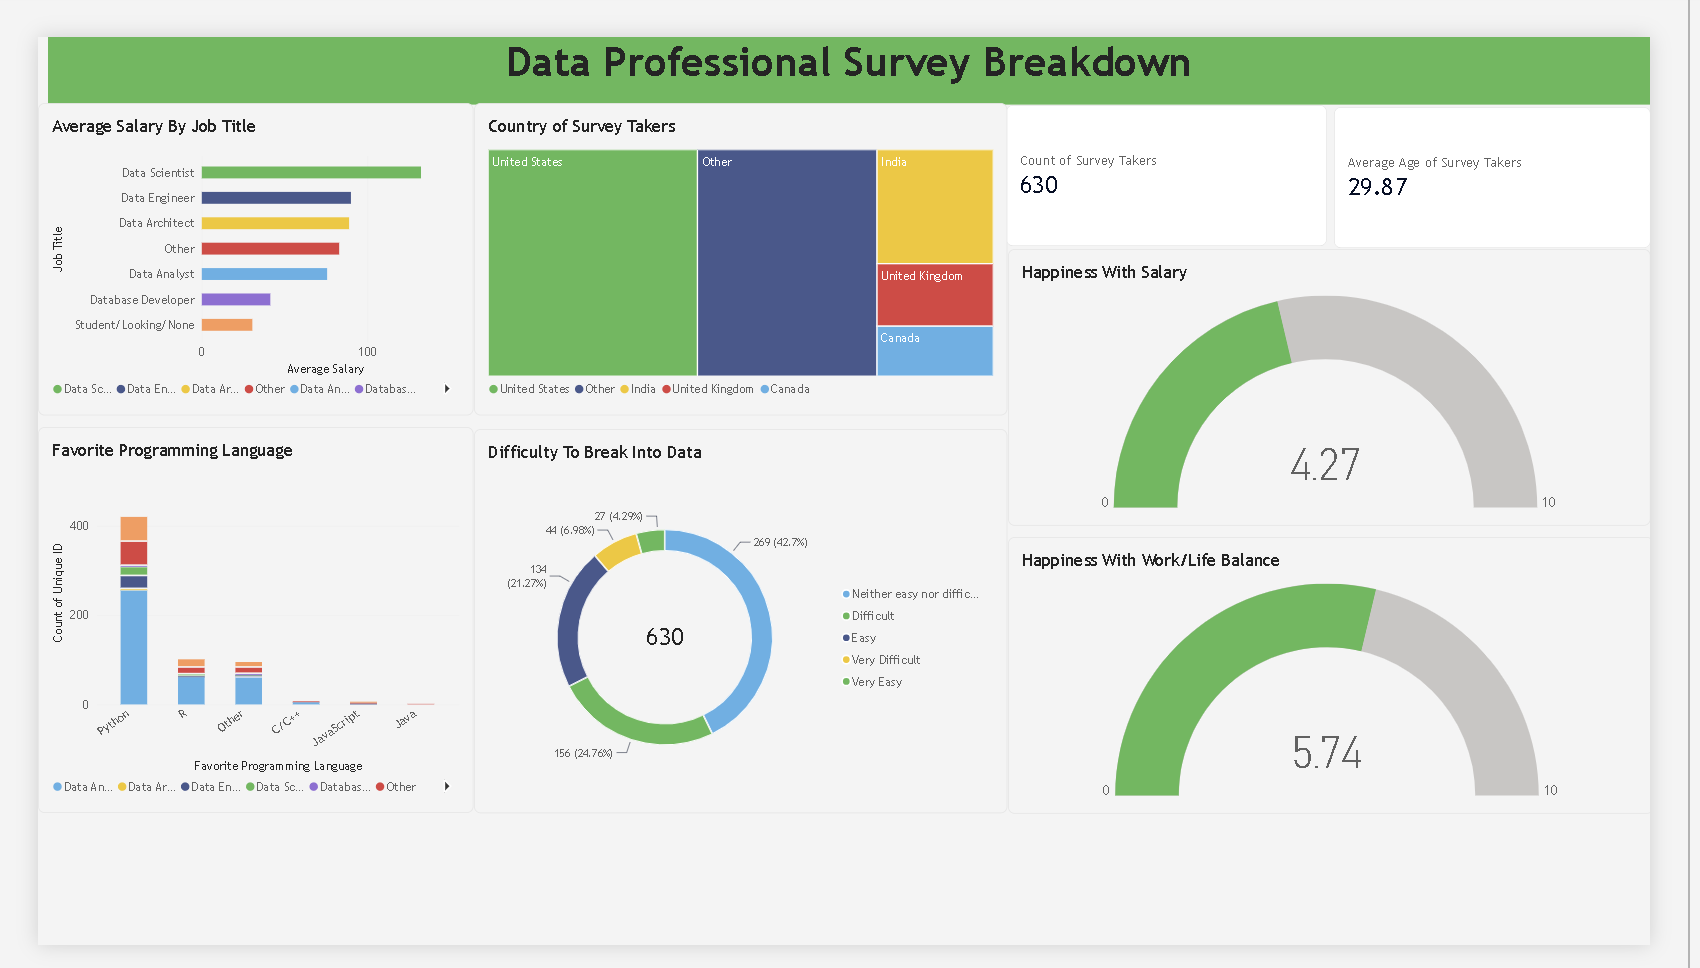

The page's visual inventory and layout, read from the dashboard file:
{"tool":"powerbi","page":{"name":"Page 1","canvas":[1920,1080],"ordinal":0},"visuals":[{"type":"textbox","box":[11.8,0,1907.8,80.4],"z":0},{"type":"cardVisual","fields":{"Data":["Count(Data Professional Survey.Unique ID)"]},"box":[1153.4,81.9,382.2,168.3],"z":1000},{"type":"cardVisual","fields":{"Data":["Avg(Data Professional Survey.Q10 - Current Age)"]},"box":[1542.6,83.3,377.8,168.5],"z":2000},{"type":"barChart","title":"Average Salary By Job Title","fields":{"Category":["Data Professional Survey.Q1 - Which Title Best Fits your Current Role?.1"],"Series":["Data Professional Survey.Q1 - Which Title Best Fits your Current Role?.1"],"Y":["Avg(Data Professional Survey.Average Salary)"]},"box":[0,79.6,518.5,372.2],"z":3000},{"type":"columnChart","title":"Favorite Programming Language","fields":{"Category":["Data Professional Survey.Q5 - Favorite Programming Language.1"],"Series":["Data Professional Survey.Q1 - Which Title Best Fits your Current Role?.1"],"Y":["CountNonNull(Data Professional Survey.Unique ID)"]},"box":[0,464.8,518.5,459.3],"z":4000},{"type":"treemap","title":"Country of Survey Takers","fields":{"Group":["Data Professional Survey.Q11 - Which Country do you live in?.1"],"Values":["CountNonNull(Data Professional Survey.Q11 - Which Country do you live in?.1)"]},"box":[518.5,79.6,635.2,372.2],"z":5000},{"type":"gauge","title":"Happiness With Salary","fields":{"MaxValue":["Max(Data Professional Survey.Q6 - How Happy are you in your Current Position with the following? (Salary))"],"MinValue":["Min(Data Professional Survey.Q6 - How Happy are you in your Current Position with the following? (Salary))"],"Y":["Avg(Data Professional Survey.Q6 - How Happy are you in your Current Position with the following? (Salary))"]},"box":[1153.7,251.9,764.8,329.6],"z":6000},{"type":"gauge","title":"Happiness With Work/Life Balance","fields":{"MaxValue":["Max(Data Professional Survey.Q6 - How Happy are you in your Current Position with the following? (Work/Life Balance))2"],"MinValue":["Min(Data Professional Survey.Q6 - How Happy are you in your Current Position with the following? (Work/Life Balance))1"],"Y":["Avg(Data Professional Survey.Q6 - How Happy are you in your Current Position with the following? (Work/Life Balance))"]},"box":[1153.7,594.4,768.5,329.6],"z":7000},{"type":"donutChart","title":"Difficulty To Break Into Data","fields":{"Category":["Data Professional Survey.Q7 - How difficult was it for you to break into Data?"],"Y":["CountNonNull(Data Professional Survey.Q7 - How difficult was it for you to break into Data?)"]},"box":[518.5,466.7,635.2,457.4],"z":7001}]}

Visuals, with their boxes in screenshot pixels (x1, y1, x2, y2), scaled from the page's 1920x1080 canvas onto the 1700x968 screenshot:
textbox: bbox=(10, 0, 1699, 72)
cardVisual - Count(Data Professional Survey.Unique ID): bbox=(1021, 73, 1360, 224)
cardVisual - Avg(Data Professional Survey.Q10 - Current Age): bbox=(1366, 75, 1699, 226)
"Average Salary By Job Title" barChart: bbox=(0, 71, 459, 405)
"Favorite Programming Language" columnChart: bbox=(0, 417, 459, 828)
"Country of Survey Takers" treemap: bbox=(459, 71, 1022, 405)
"Happiness With Salary" gauge: bbox=(1022, 226, 1699, 521)
"Happiness With Work/Life Balance" gauge: bbox=(1022, 533, 1699, 828)
"Difficulty To Break Into Data" donutChart: bbox=(459, 418, 1022, 828)
